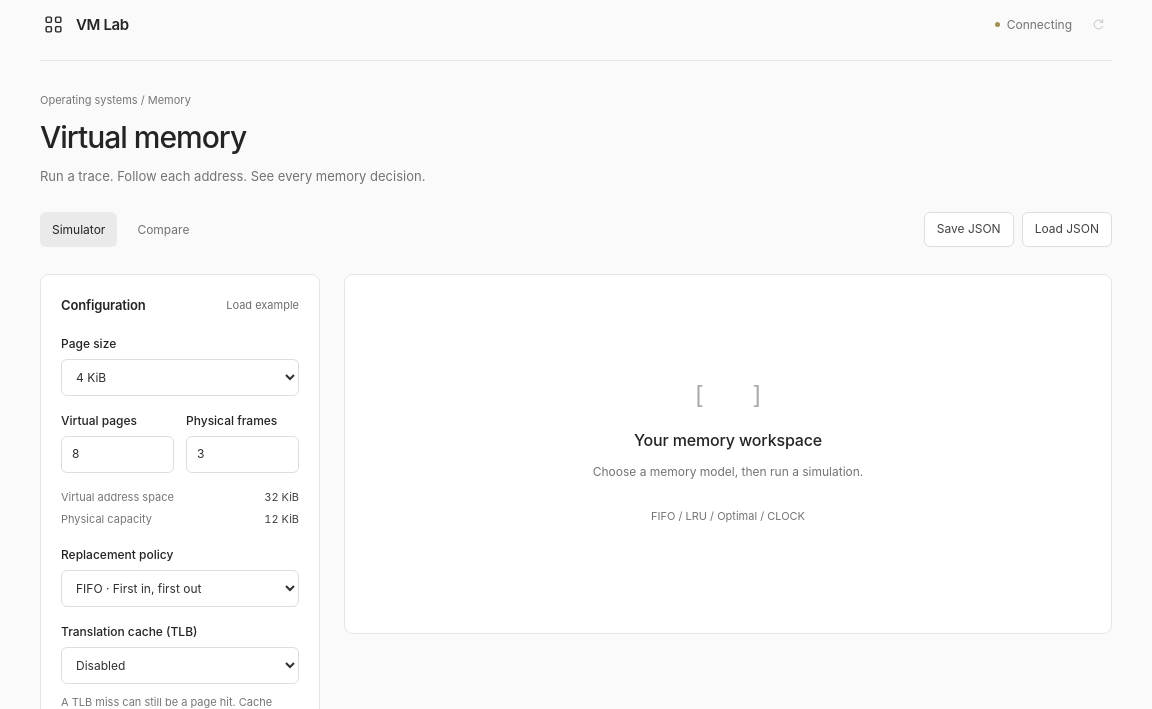
interactive simulation › reports local validation errors without sending a request
This screenshot has width=1152, height=709.
Replace the text in the number field labelled "Physical frames" with "0": (242, 454) [186,436,299,473]
(page scrolled)
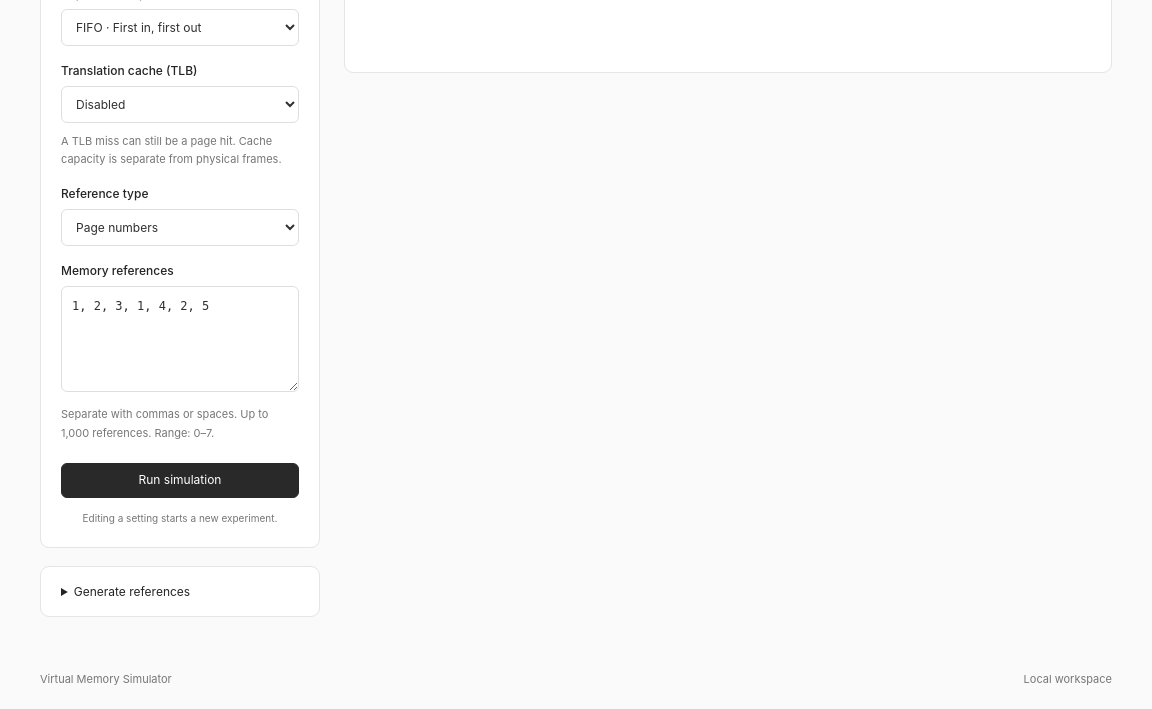
Click the button "Run simulation": click(180, 480) [61,463,299,498]
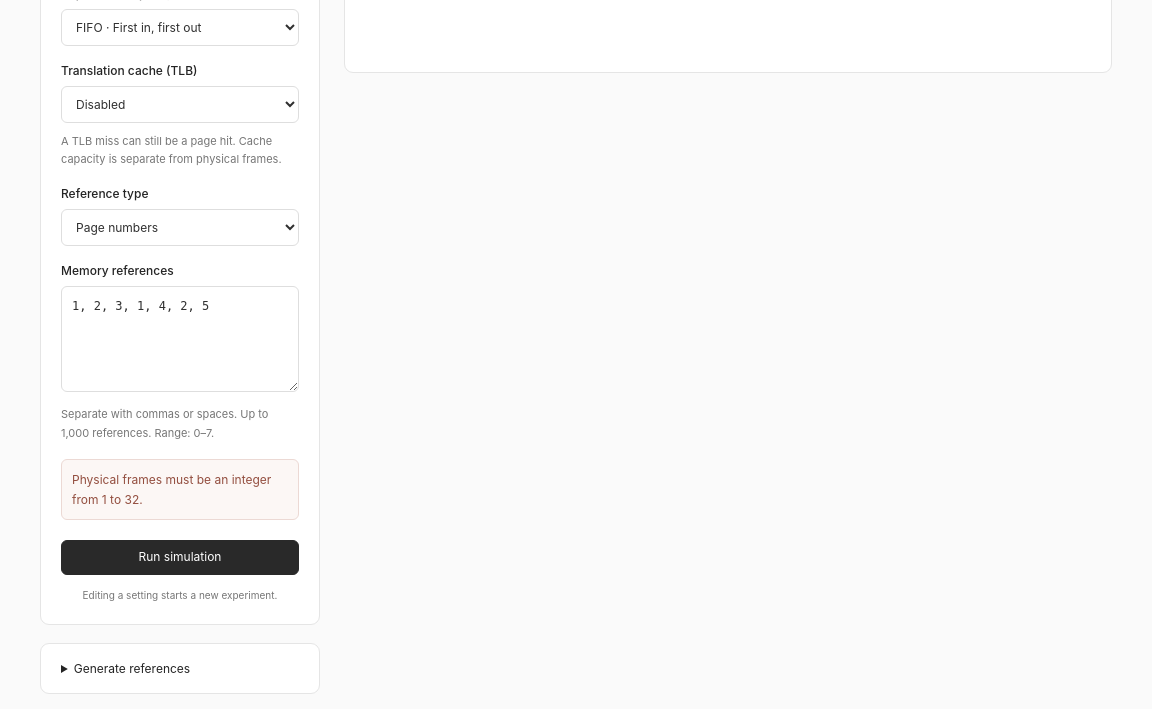
Expected: the message shows "Physical frames must be an integer", [72,472,271,507]
